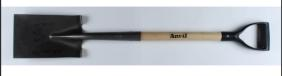PELLE: (5, 5, 282, 64)
